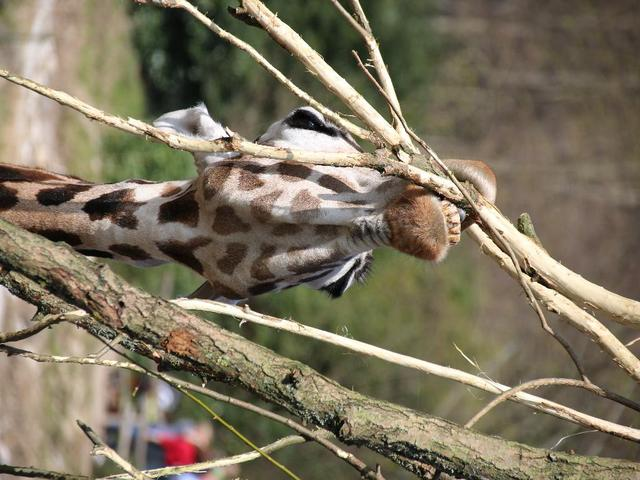giraffe: (16, 61, 555, 399)
